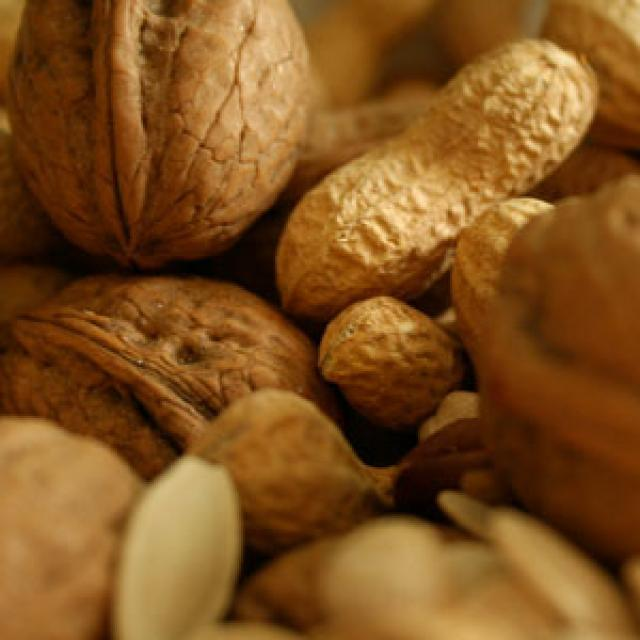Frutta secca: (24, 21, 630, 639)
